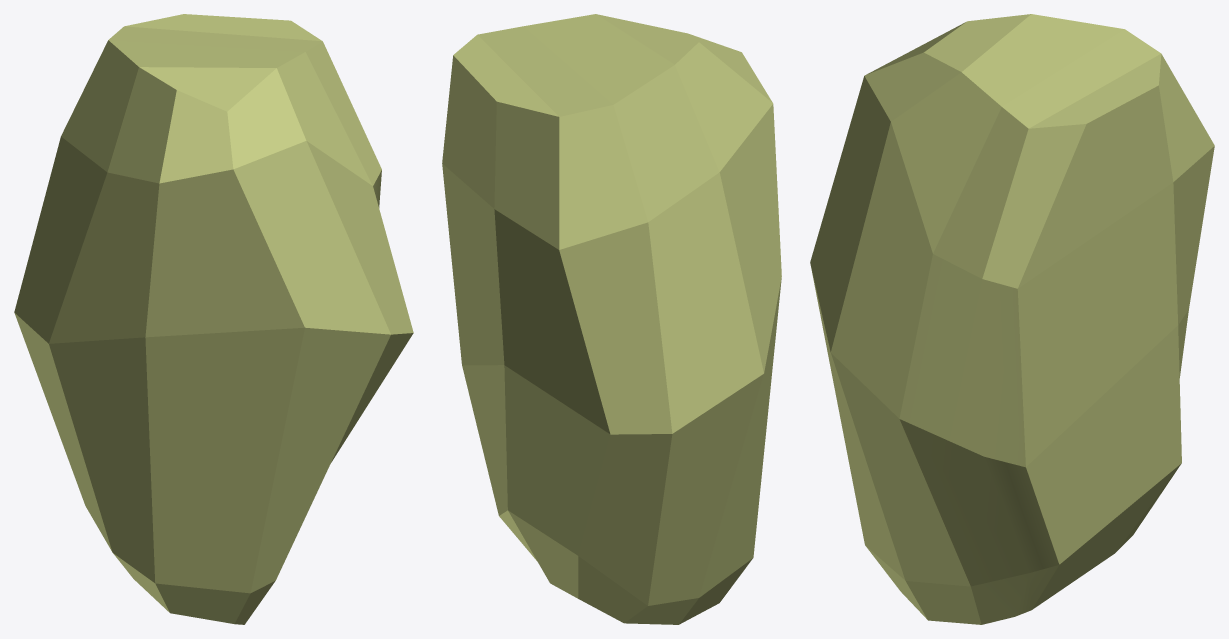
The model's file is SM_Rock1.fbx.
The picture shows the model from 3 angles, left to right: view 1: azimuth 30°, elevation 25°; view 2: azimuth 150°, elevation 25°; view 3: azimuth 270°, elevation 25°; orthographic projection. The views are drawn at different scales.
Visible parts, largest first — view 1: SM_Rock1; view 2: SM_Rock1; view 3: SM_Rock1.
Part boxes in pixels (x1,y1,x2,y2): SM_Rock1: [14, 14, 413, 624]; SM_Rock1: [442, 14, 781, 624]; SM_Rock1: [810, 14, 1214, 624].
Bounding box in the file's own units: 2.34 × 3.93 × 2.5.
